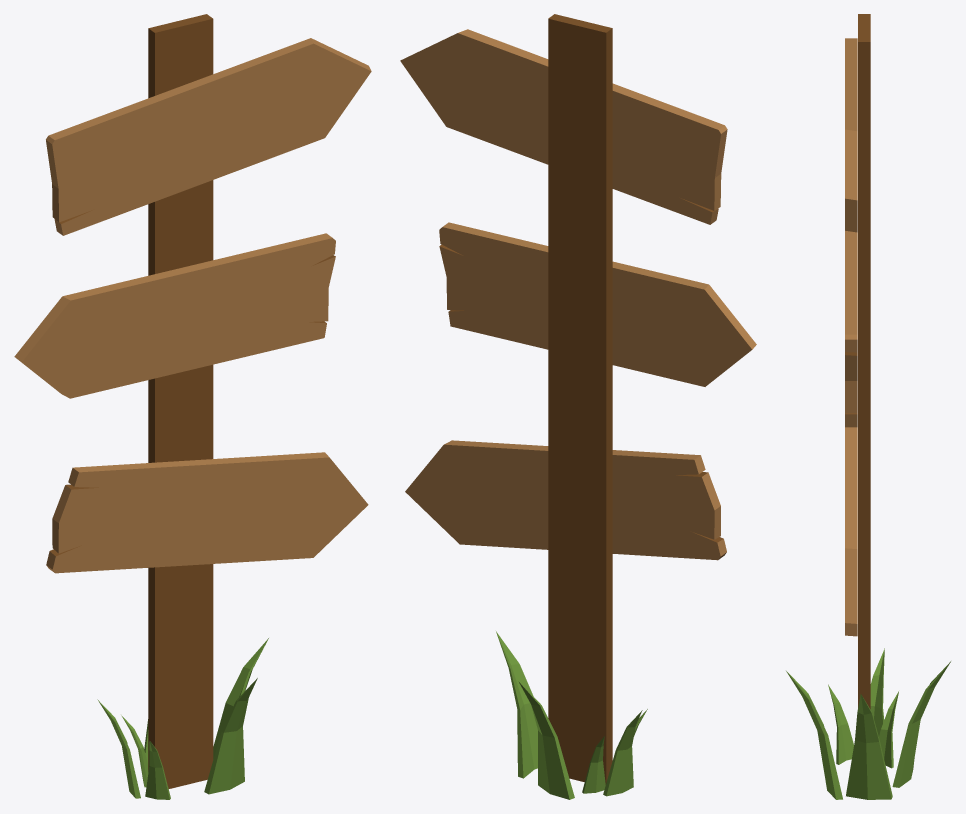
Rendered from Wooden Sign.glb.
The picture shows the model from 3 angles, left to right: view 1: azimuth 30°, elevation 25°; view 2: azimuth 150°, elevation 25°; view 3: azimuth 270°, elevation 25°; orthographic projection.
Visible parts, largest first — view 1: Wooden Sign; view 2: Wooden Sign; view 3: Wooden Sign.
Boxes of the visible parts, x1,y1,x2,y2 form: Wooden Sign: (14,14,371,799); Wooden Sign: (400,14,756,799); Wooden Sign: (786,14,950,799).
Bounding box in the file's own units: 0.9682 × 1.98 × 0.4007.
